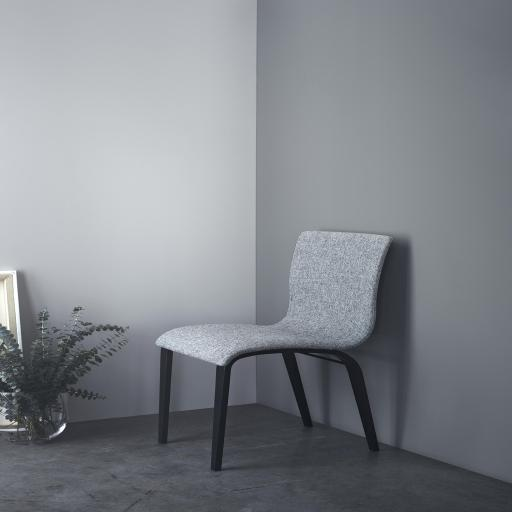chair: (155, 230, 393, 471)
wall: (257, 0, 512, 484), (0, 0, 257, 422)
